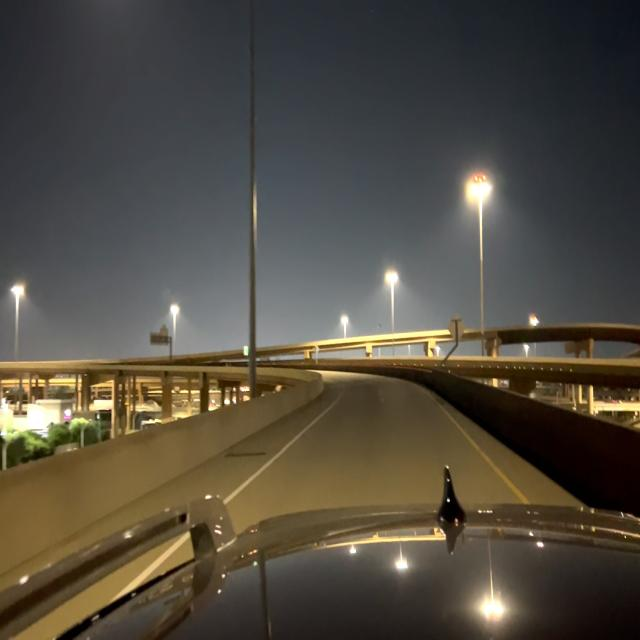back-of-sign: (449, 313, 465, 344)
